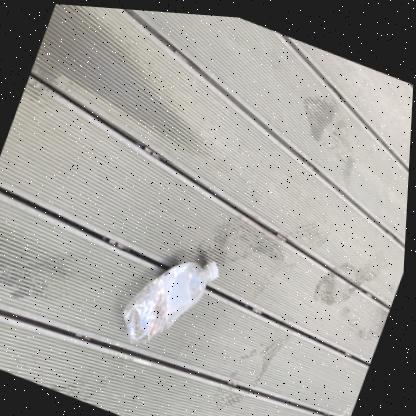Plastic: (124, 258, 220, 341)
